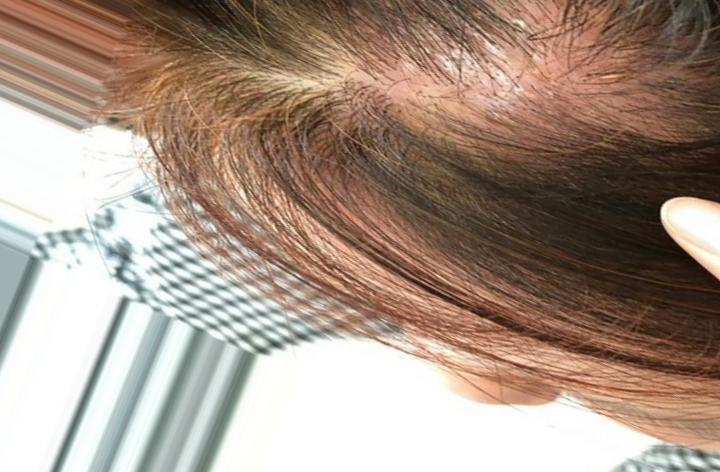Contact Dermatitis: (355, 8, 674, 171)
